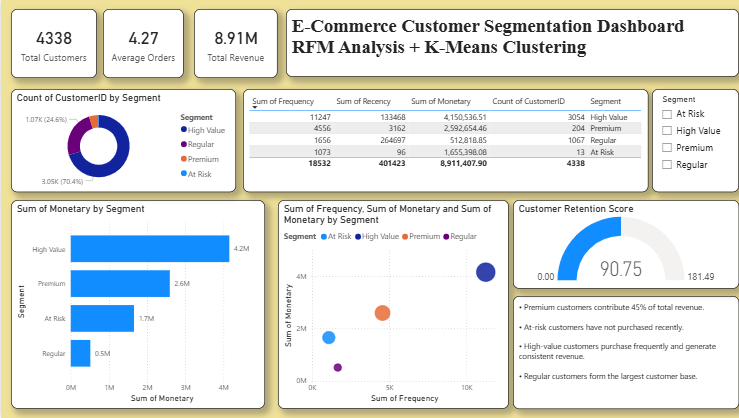

Layout of this report page (visuals, bound fields, positions):
{"tool":"powerbi","page":{"name":"Page 1","canvas":[1280,720],"ordinal":0},"visuals":[{"type":"card","fields":{"Values":["customer_segments.Total Customers"]},"box":[16.8,15.1,147.8,119.3],"z":0},{"type":"card","fields":{"Values":["customer_segments.Total Revenue"]},"box":[332.6,15.1,144.5,119.3],"z":1},{"type":"clusteredBarChart","fields":{"Category":["customer_segments.Segment"],"Y":["Sum(customer_segments.Monetary)"]},"box":[17.2,344.8,437.9,360.3],"z":2},{"type":"card","fields":{"Values":["customer_segments.Average Orders"]},"box":[176.4,15.1,139.4,119.3],"z":3},{"type":"donutChart","fields":{"Category":["customer_segments.Segment"],"Y":["CountNonNull(customer_segments.CustomerID)"]},"box":[16.8,152.9,388,178.1],"z":5},{"type":"scatterChart","fields":{"X":["Sum(customer_segments.Frequency)"],"Y":["Sum(customer_segments.Monetary)"],"Series":["customer_segments.Segment"],"Size":["Sum(customer_segments.Monetary)"]},"box":[477.6,344.8,398.3,360.3],"z":7},{"type":"tableEx","fields":{"Values":["Sum(customer_segments.Frequency)","Sum(customer_segments.Recency)","Sum(customer_segments.Monetary)","CountNonNull(customer_segments.CustomerID)","customer_segments.Segment"]},"box":[416.6,152.9,698.8,178.1],"z":8},{"type":"slicer","fields":{"Values":["customer_segments.Segment"]},"box":[1123,153,150,178],"z":9},{"type":"textbox","box":[882.8,510.3,389.7,194.8],"z":10},{"type":"textbox","box":[491.4,15.5,781,117.2],"z":12},{"type":"gauge","fields":{"Y":["customer_segments.Customer Retention Score"]},"box":[882.8,344.8,389.7,153.4],"z":13}]}

Visuals, with their boxes in screenshot pixels (x1, y1, x2, y2), scaled from the page's 1280x720 canvas onto the 739x418 screenshot:
card - customer_segments.Total Customers: <region>10, 9, 95, 78</region>
card - customer_segments.Total Revenue: <region>192, 9, 275, 78</region>
clusteredBarChart - customer_segments.Segment x Sum(customer_segments.Monetary): <region>10, 200, 263, 409</region>
card - customer_segments.Average Orders: <region>102, 9, 182, 78</region>
donutChart - customer_segments.Segment x CountNonNull(customer_segments.CustomerID): <region>10, 89, 234, 192</region>
scatterChart - Sum(customer_segments.Frequency) x Sum(customer_segments.Monetary): <region>276, 200, 506, 409</region>
tableEx - Sum(customer_segments.Frequency) x Sum(customer_segments.Recency): <region>241, 89, 644, 192</region>
slicer - customer_segments.Segment: <region>648, 89, 735, 192</region>
textbox: <region>510, 296, 735, 409</region>
textbox: <region>284, 9, 735, 77</region>
gauge - customer_segments.Customer Retention Score: <region>510, 200, 735, 289</region>
